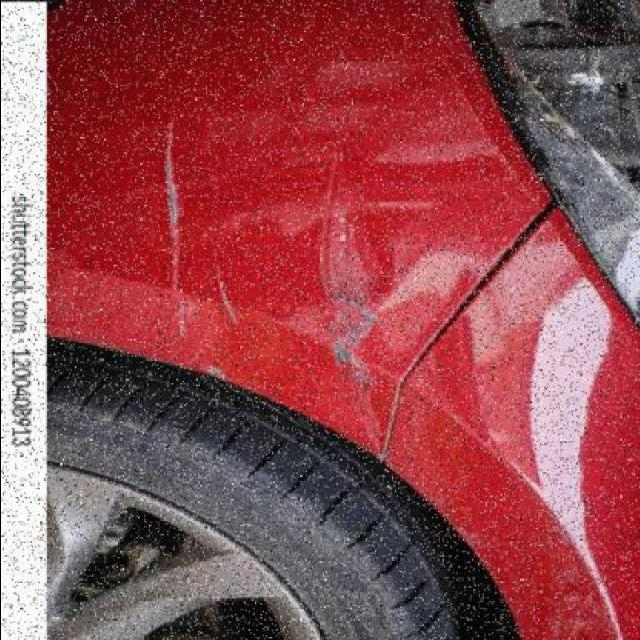front-bumper-dent: (45, 0, 409, 461)
